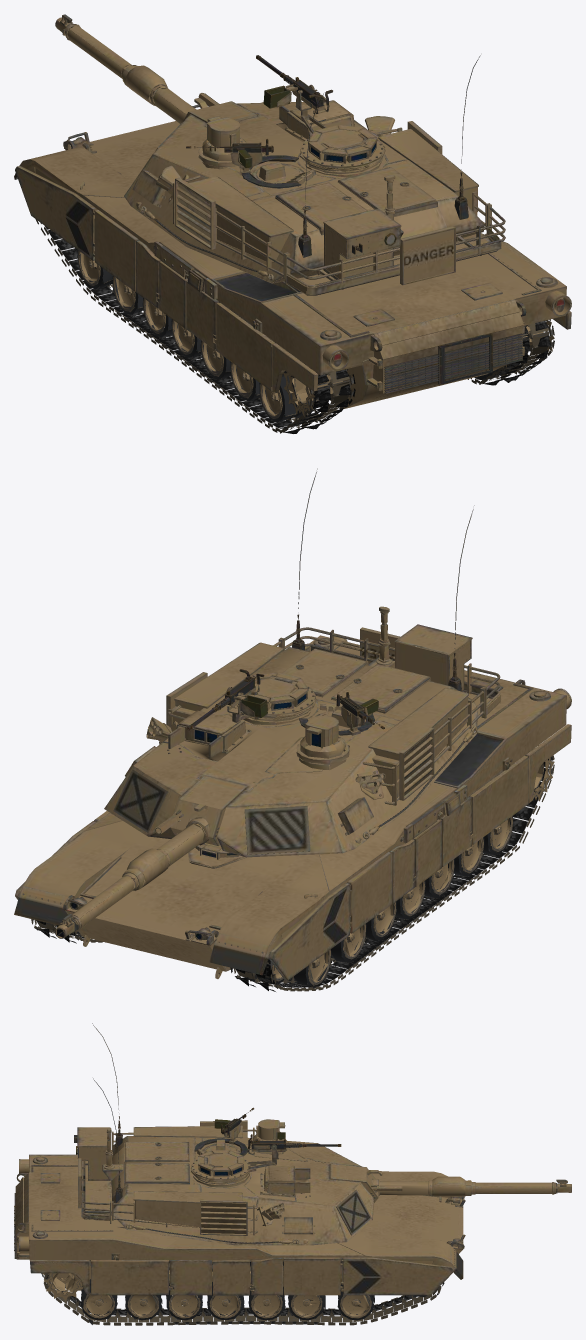
The picture shows the model from 3 angles, top to bottom: view 1: azimuth 30°, elevation 25°; view 2: azimuth 150°, elevation 25°; view 3: azimuth 270°, elevation 25°; orthographic projection. The views are drawn at different scales.
Parts seen in each view (by area): view 1: body, turret, track_l, gun, track_r, rw_l_1, rw_l_0, cws_gun, rw_l_7, rw_l_3, rw_l_2, rw_l_6 (+2 smaller); view 2: turret, body, gun, track_l, cws_gun, rw_l_6, rw_l_7, rw_l_2, rw_l_5, rw_l_1, rw_l_3, rw_l_4; view 3: body, turret, track_r, gun, rw_r_1, rw_r_7, rw_r_4, rw_r_6, rw_r_5, rw_r_3, rw_r_2, rw_r_0 (+1 smaller).
Boxes of the visible parts, x1,y1,x2,y2 form: body: [14, 102, 571, 409]; turret: [124, 55, 505, 295]; track_l: [35, 219, 355, 433]; gun: [55, 14, 257, 123]; track_r: [467, 319, 554, 385]; rw_l_1: [259, 371, 315, 423]; rw_l_0: [283, 368, 355, 416]; cws_gun: [256, 55, 332, 114]; rw_l_7: [77, 250, 112, 290]; rw_l_3: [200, 340, 230, 380]; rw_l_2: [230, 361, 276, 401]; rw_l_6: [112, 276, 143, 315]; turret: [104, 468, 500, 857]; body: [14, 635, 571, 980]; gun: [55, 775, 247, 938]; track_l: [230, 745, 554, 991]; cws_gun: [187, 669, 260, 730]; rw_l_6: [328, 924, 366, 963]; rw_l_7: [287, 949, 331, 988]; rw_l_2: [454, 837, 484, 876]; rw_l_5: [366, 901, 396, 941]; rw_l_1: [483, 816, 513, 855]; rw_l_3: [411, 859, 454, 898]; rw_l_4: [382, 880, 425, 919]; body: [14, 1154, 465, 1299]; turret: [74, 1023, 373, 1245]; track_r: [41, 1260, 444, 1325]; gun: [330, 1163, 571, 1202]; rw_r_1: [81, 1279, 117, 1319]; rw_r_7: [337, 1284, 374, 1320]; rw_r_4: [207, 1282, 244, 1319]; rw_r_6: [288, 1295, 325, 1320]; rw_r_5: [248, 1286, 285, 1320]; rw_r_3: [166, 1284, 202, 1320]; rw_r_2: [125, 1295, 162, 1320]; rw_r_0: [44, 1273, 83, 1300].
Bounding box in the file's own units: 3.74 × 4.64 × 9.84.
3 materials, 3 textured.
